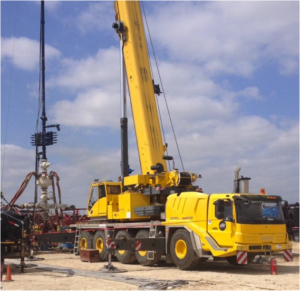truck: (70, 1, 292, 273)
